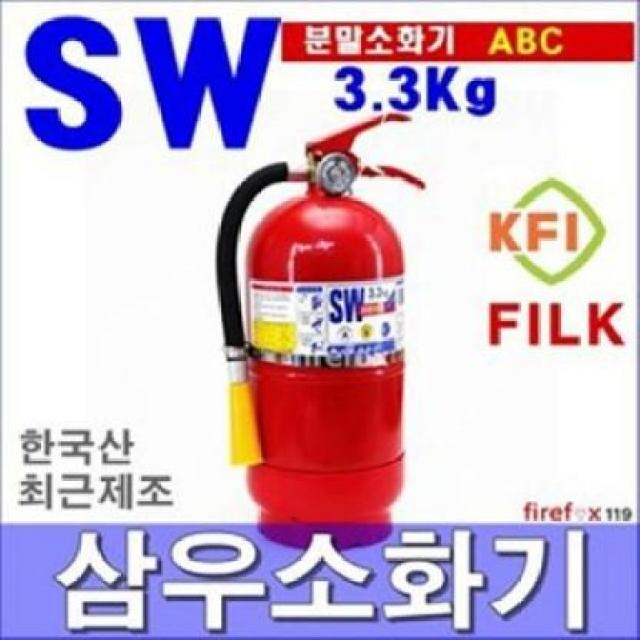fire extinguisher: (213, 113, 425, 550)
